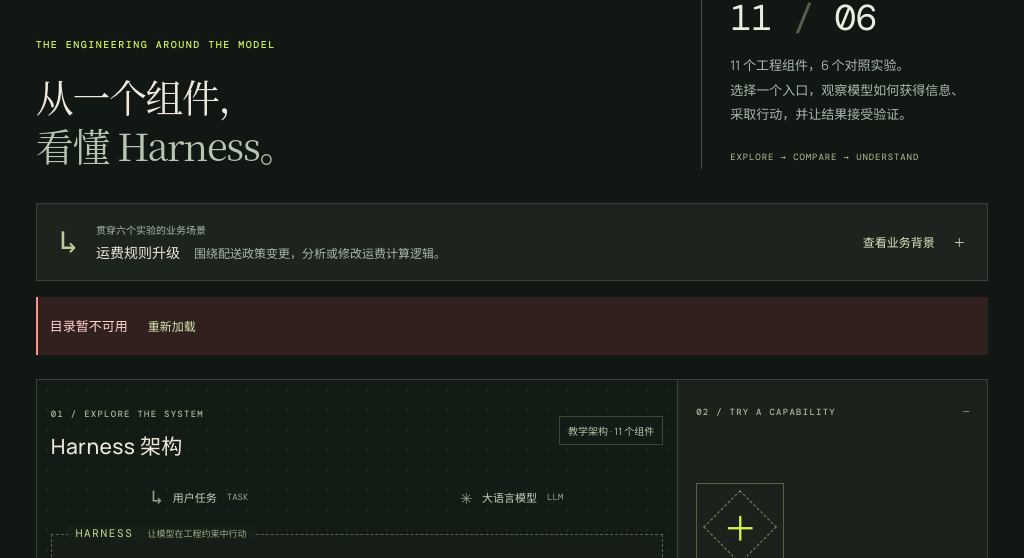
Test case: architecture explorer › retries a core catalogue failure
The image size is (1024, 558).
Expected: the message shows "目录暂不可用", top-left (50, 317), bottom-right (128, 335)
Click the button "重新加载". click: (172, 326)
box: top-left (148, 309), bottom-right (196, 343)
(page scrolled)
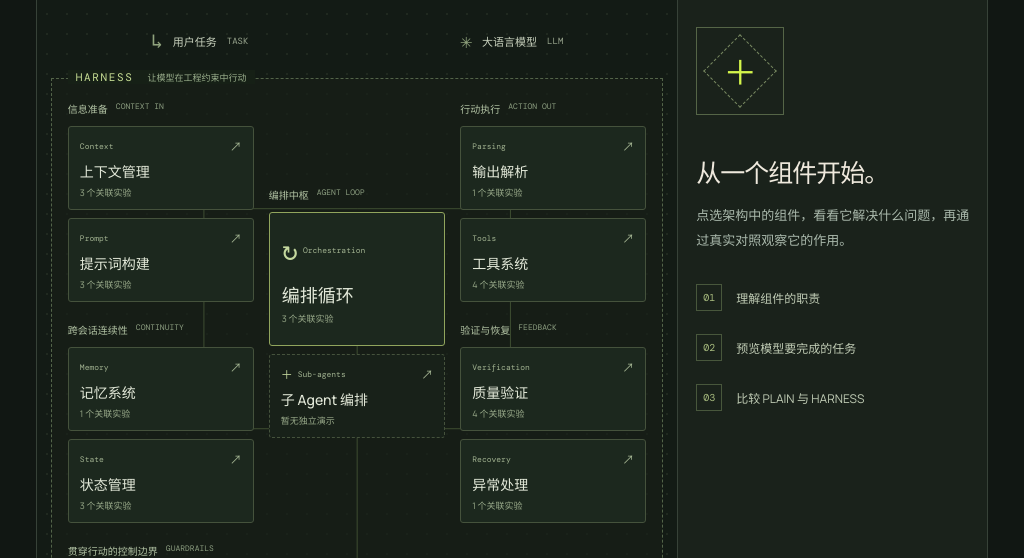
Now the button "Tools ↗ 工具系统 4 个关联实验" is enabled
Click the button "Tools ↗ 工具系统 4 个关联实验". click: (553, 260)
box: top-left (460, 218), bottom-right (646, 302)
(page scrolled)
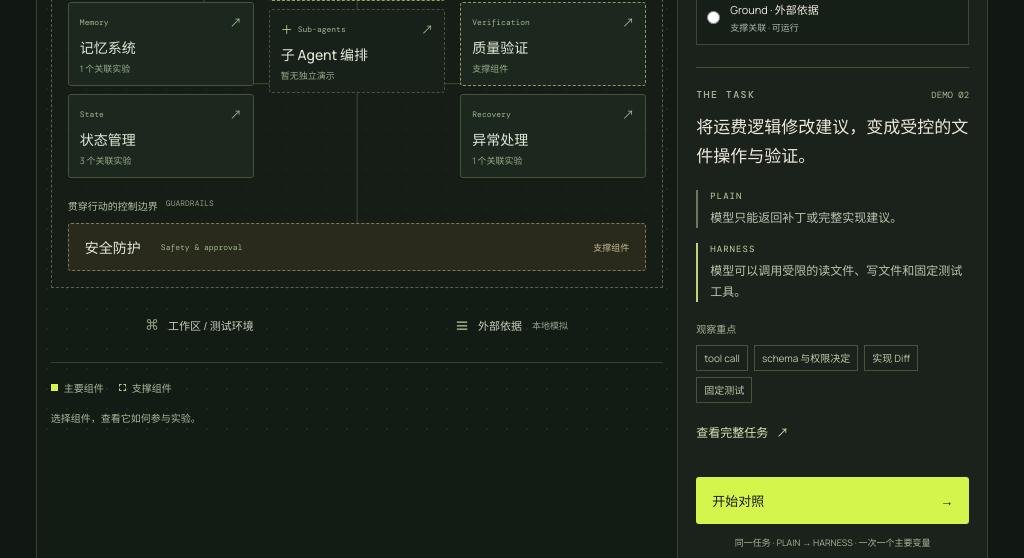
Now the button "开始对照 →" is enabled, box top-left (696, 477), bottom-right (969, 524)
